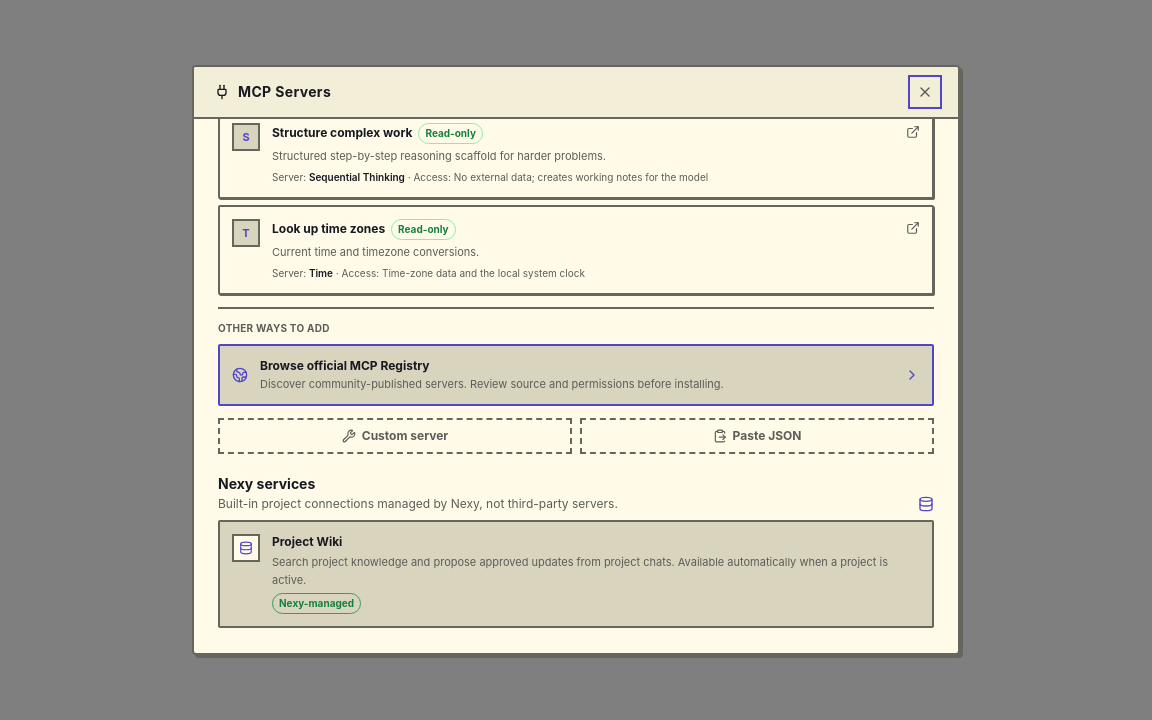
it: McpServerPanel — CRUD Operations › custom server button opens form
(page scrolled)
Click the button "Custom server". click: coordinates (395, 436)
box: left=218, top=418, right=572, bottom=454
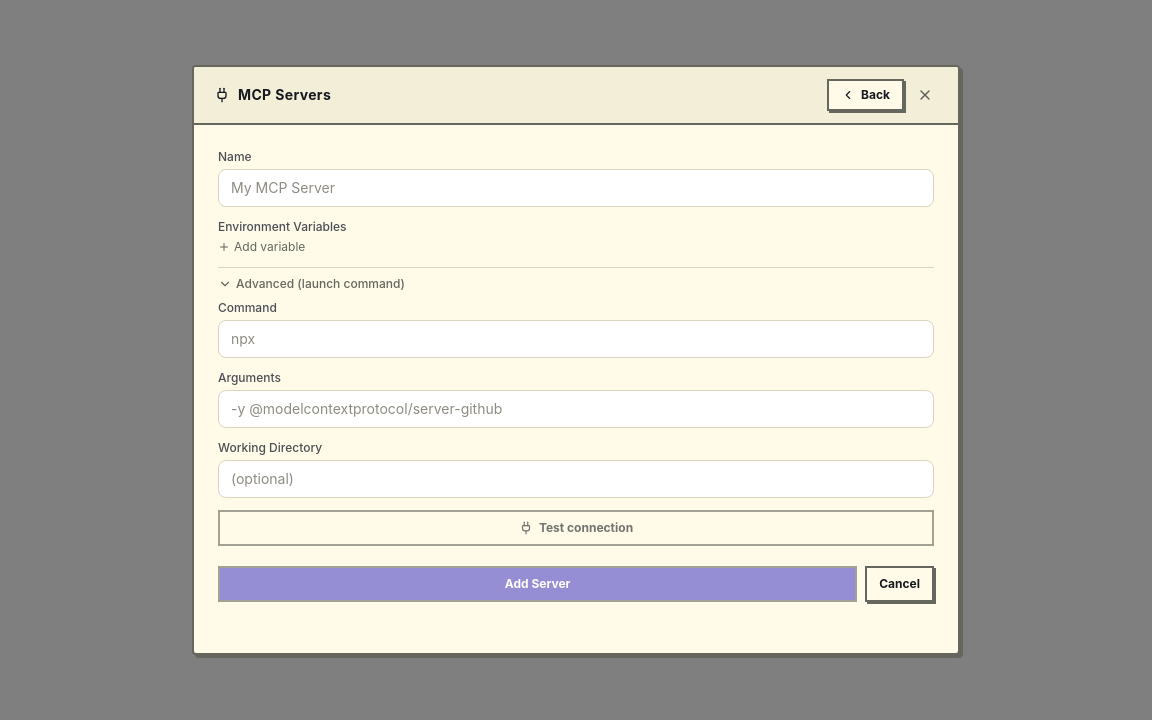
Check: the field with placeholder "My MCP Server" is shown, box left=218, top=169, right=934, bottom=207
Check: the button "Add Server" is shown, box left=218, top=566, right=857, bottom=602
